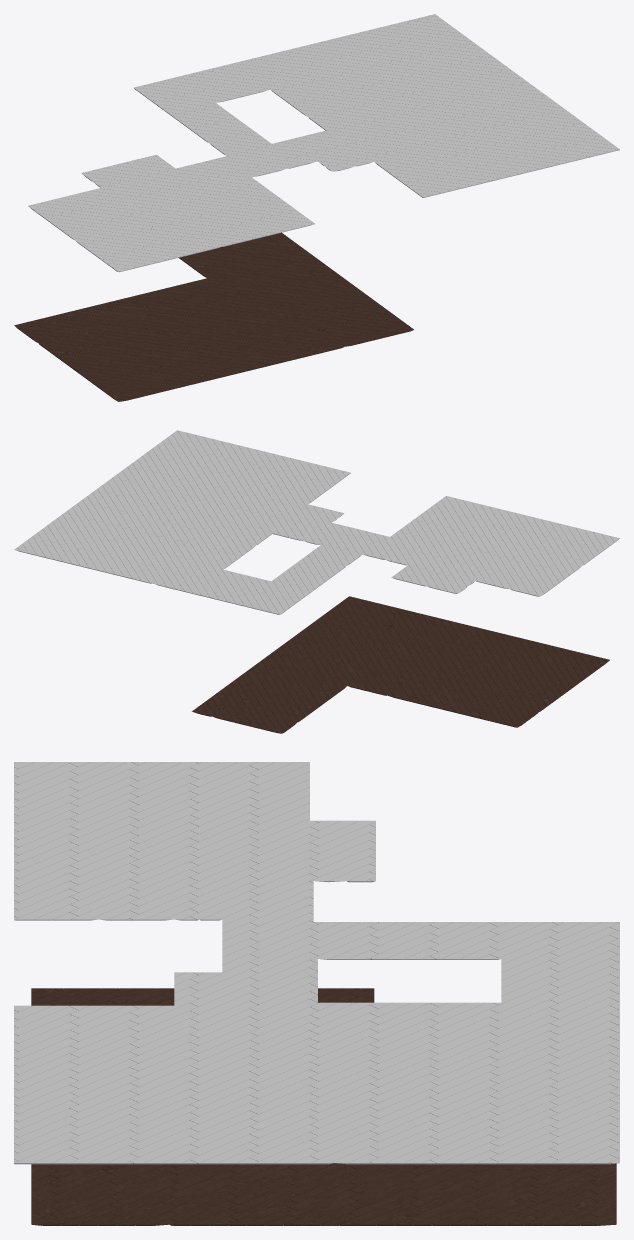
The model's file is WoodPanelingComplete.fbx.
The picture shows the model from 3 angles, top to bottom: view 1: azimuth 30°, elevation 25°; view 2: azimuth 150°, elevation 25°; view 3: azimuth 270°, elevation 25°; orthographic projection. The views are drawn at different scales.
Visible parts, largest first — view 1: WoodPanelingSecondFloor.001, WoodPanelingSecondFloor, WoodPanelingFirstFloor.001, WoodPanelingFirstFloor; view 2: WoodPanelingSecondFloor.001, WoodPanelingSecondFloor, WoodPanelingFirstFloor, WoodPanelingFirstFloor.001; view 3: WoodPanelingSecondFloor, WoodPanelingSecondFloor.001, WoodPanelingFirstFloor, WoodPanelingFirstFloor.001.
Boxes of the visible parts, x1,y1,x2,y2 form: WoodPanelingSecondFloor.001: [32, 15, 619, 271]; WoodPanelingSecondFloor: [28, 14, 619, 271]; WoodPanelingFirstFloor.001: [14, 232, 413, 401]; WoodPanelingFirstFloor: [15, 237, 410, 401]; WoodPanelingSecondFloor.001: [15, 430, 619, 614]; WoodPanelingSecondFloor: [14, 430, 619, 614]; WoodPanelingFirstFloor: [192, 597, 609, 733]; WoodPanelingFirstFloor.001: [196, 596, 609, 733]; WoodPanelingSecondFloor: [14, 762, 619, 1164]; WoodPanelingSecondFloor.001: [14, 762, 619, 1164]; WoodPanelingFirstFloor: [31, 988, 616, 1225]; WoodPanelingFirstFloor.001: [31, 988, 616, 1225].
Size of the model in its own units: 1123 by 291 by 717.
